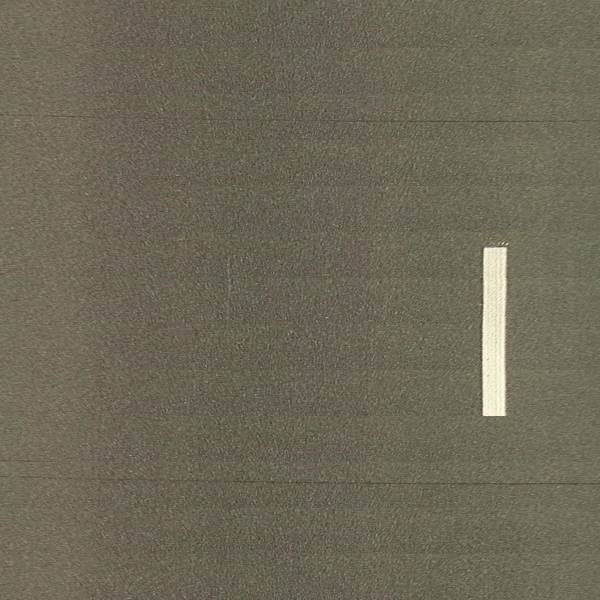road_damage: (56, 107, 534, 129), (51, 471, 526, 490)
